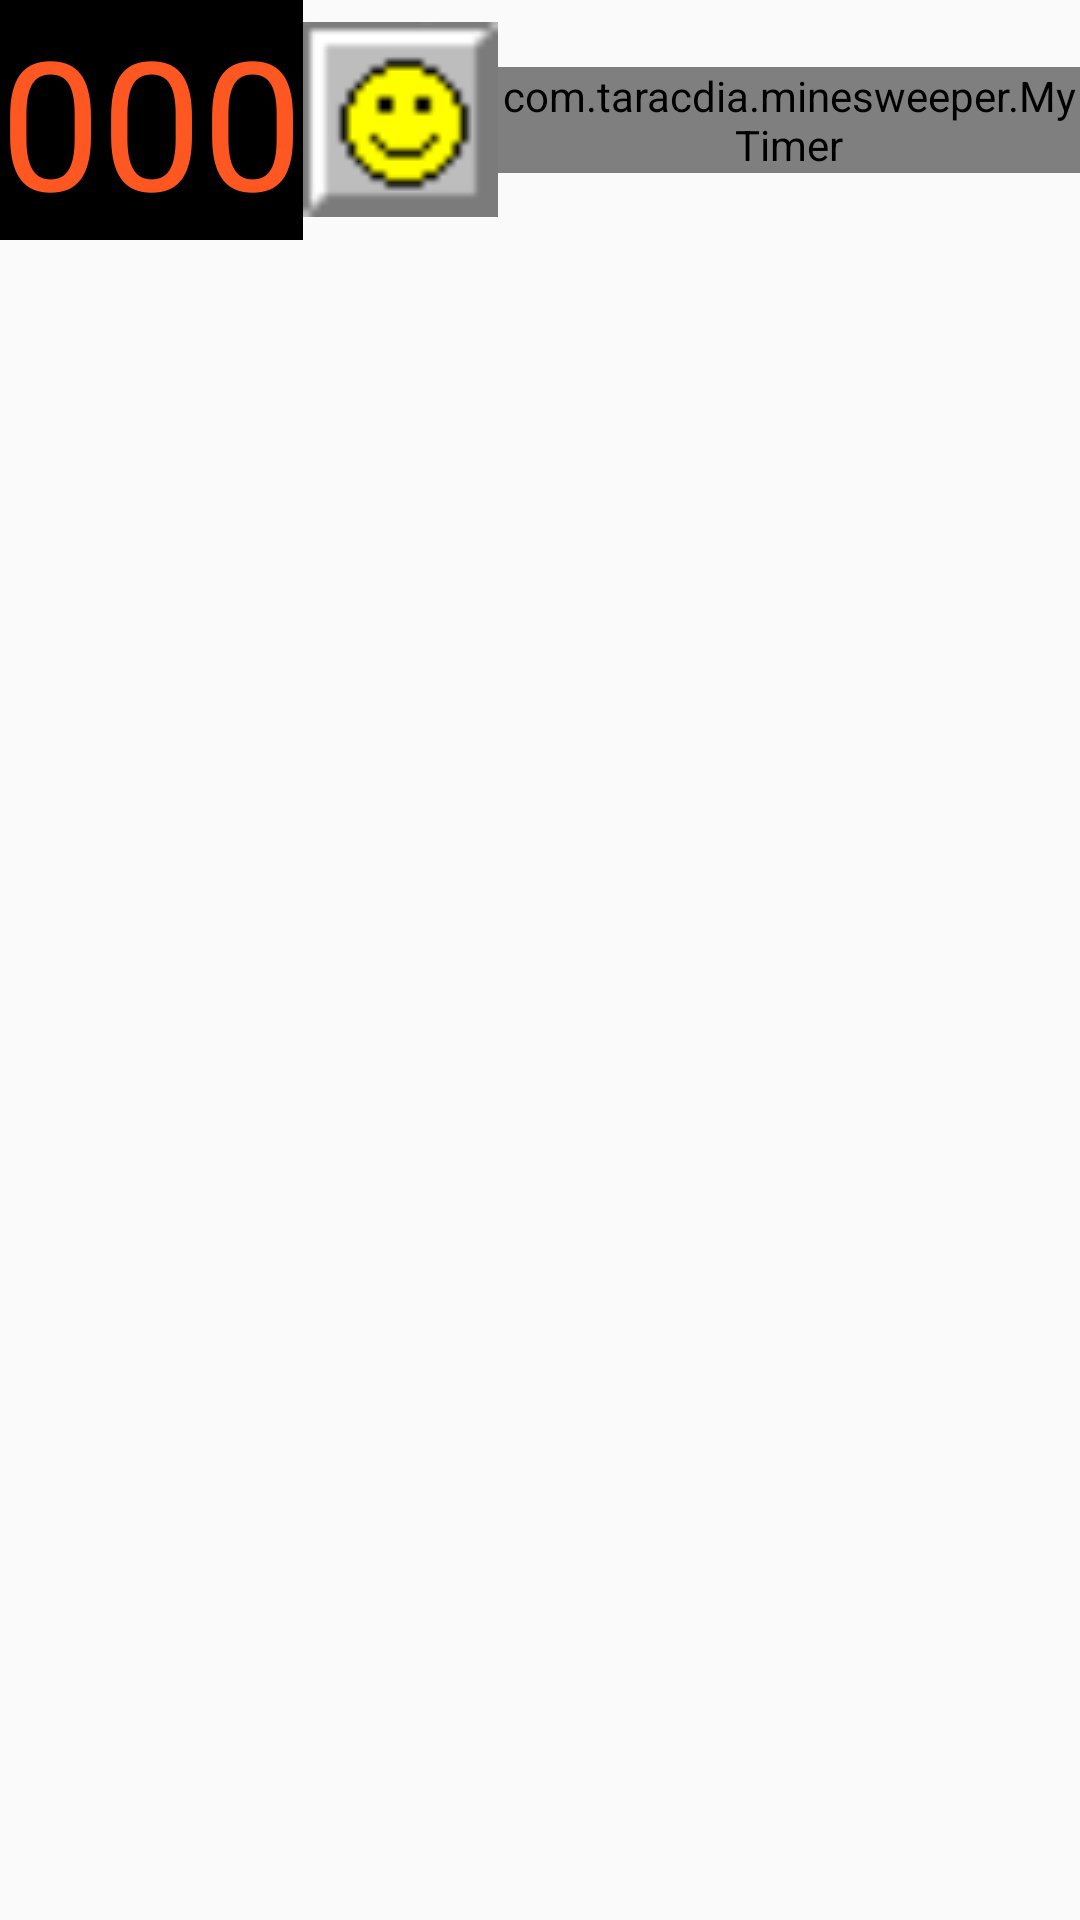

Named icons in this screenshot (1080 x 1920) and their bounding boxes, (x1, y1, x2, y2):
happyface: (303, 22, 498, 217)
